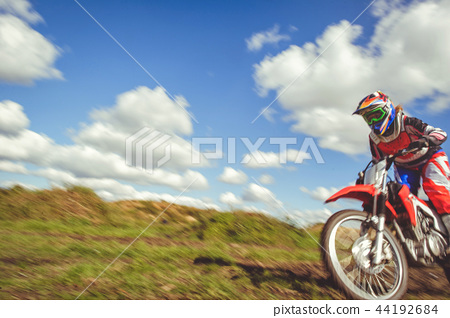helmet: (351, 87, 397, 133)
